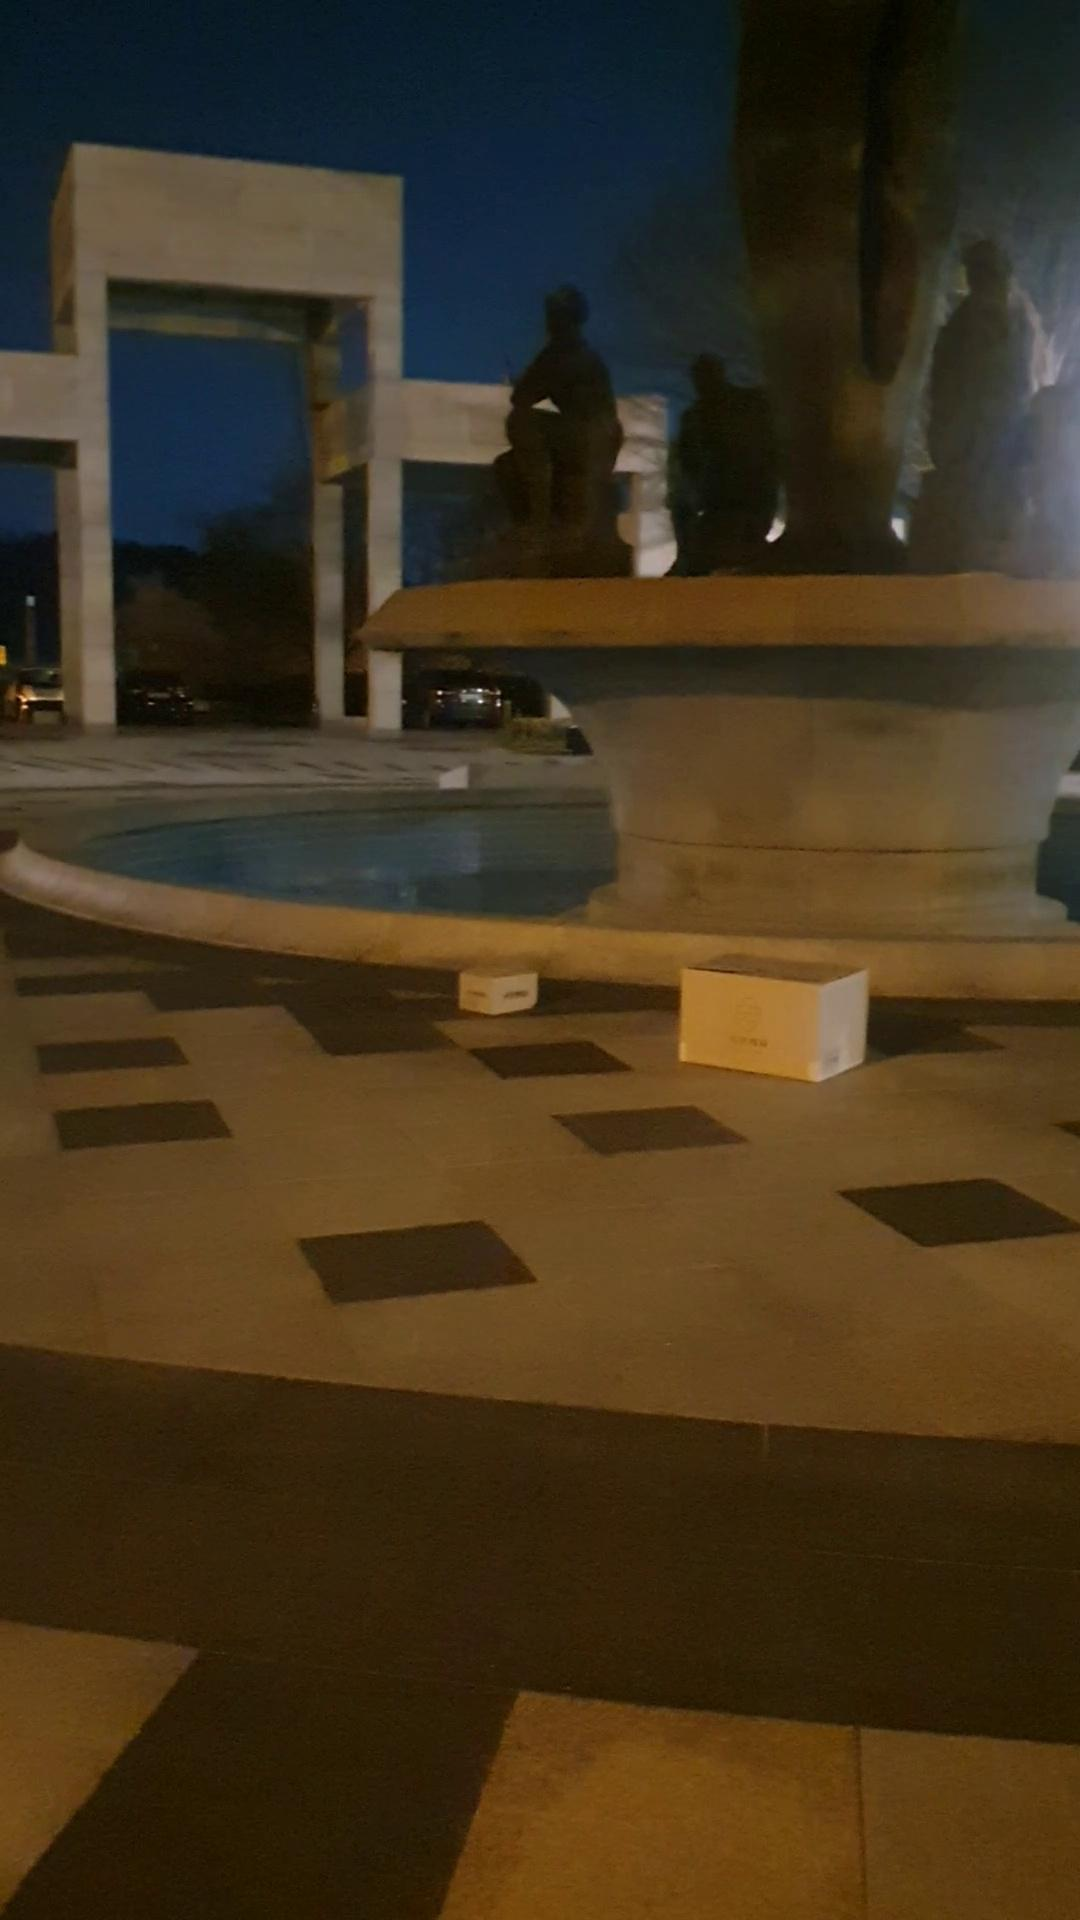Box: (673, 948, 877, 1093), (451, 949, 538, 1025)
